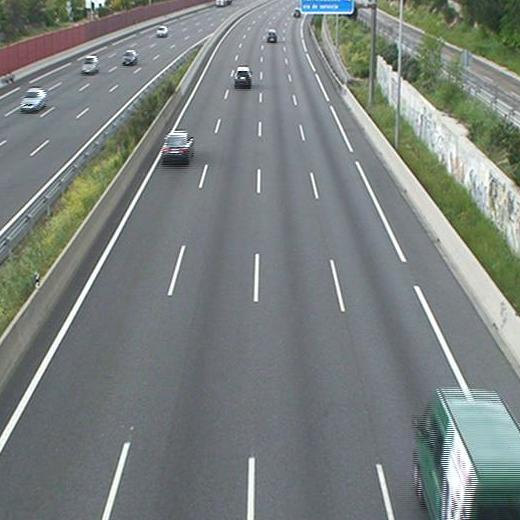car: (160, 131, 193, 165), (233, 65, 252, 90), (266, 29, 277, 43)
van: (415, 387, 520, 519)
